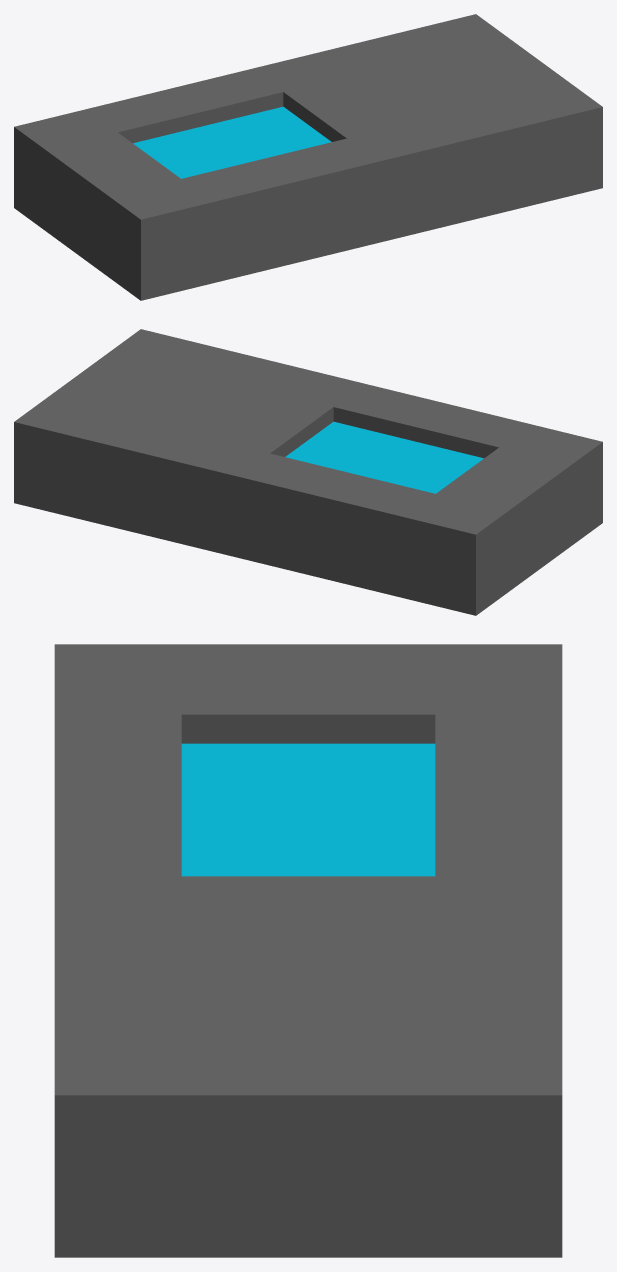
File: Scanner.fbx
3 views of the same model, one above another, from view 1: azimuth 30°, elevation 25°; view 2: azimuth 150°, elevation 25°; view 3: azimuth 270°, elevation 25° (orthographic). The views are drawn at different scales.
Parts seen in each view (by area): view 1: Cube; view 2: Cube; view 3: Cube.
Part boxes in pixels (x1=…): Cube: x1=14, y1=14, x2=602, y2=300; Cube: x1=14, y1=329, x2=602, y2=615; Cube: x1=54, y1=644, x2=562, y2=1257.
Size of the model in its own units: 71.46 by 12 by 34.
